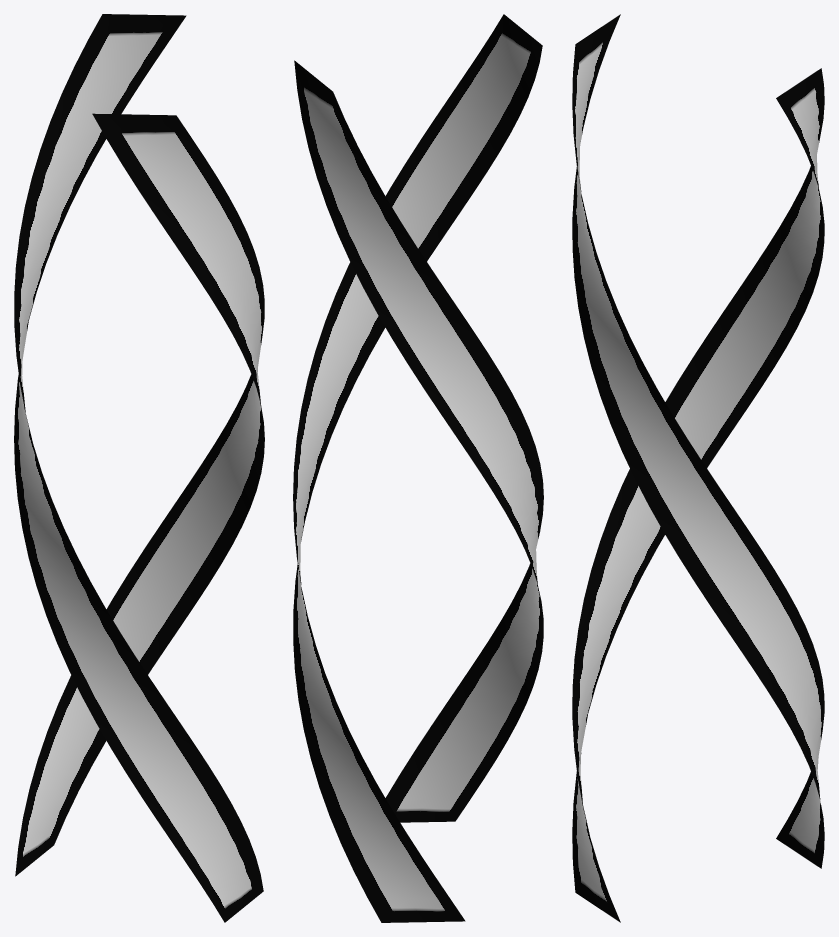
The model's file is VFX_TwistTrail2 1.FBX.
3 views of the same model, side by side, from view 1: azimuth 30°, elevation 25°; view 2: azimuth 150°, elevation 25°; view 3: azimuth 270°, elevation 25° (orthographic).
Parts seen in each view (by area): view 1: VFX_TwistTrail2; view 2: VFX_TwistTrail2; view 3: VFX_TwistTrail2.
Part boxes in pixels (x1=…): VFX_TwistTrail2: x1=14, y1=14, x2=264, y2=922; VFX_TwistTrail2: x1=293, y1=14, x2=543, y2=922; VFX_TwistTrail2: x1=572, y1=14, x2=824, y2=922.
Bounding box in the file's own units: 66.64 × 240 × 66.68.
